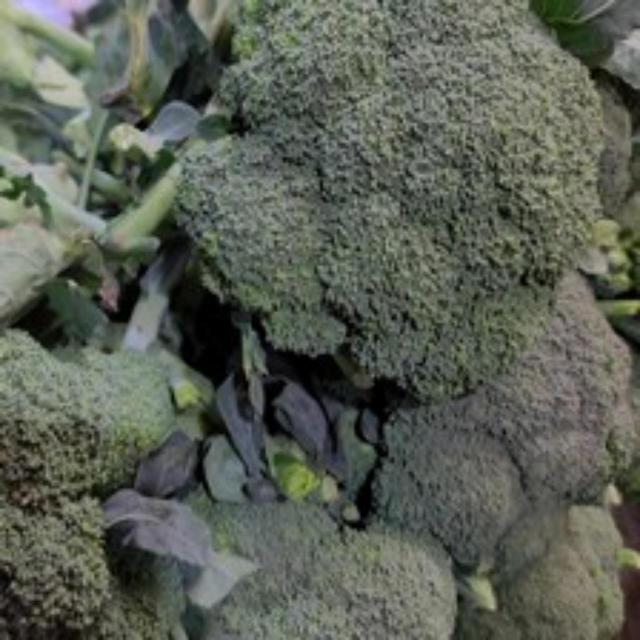broccoli: (176, 0, 607, 410)
